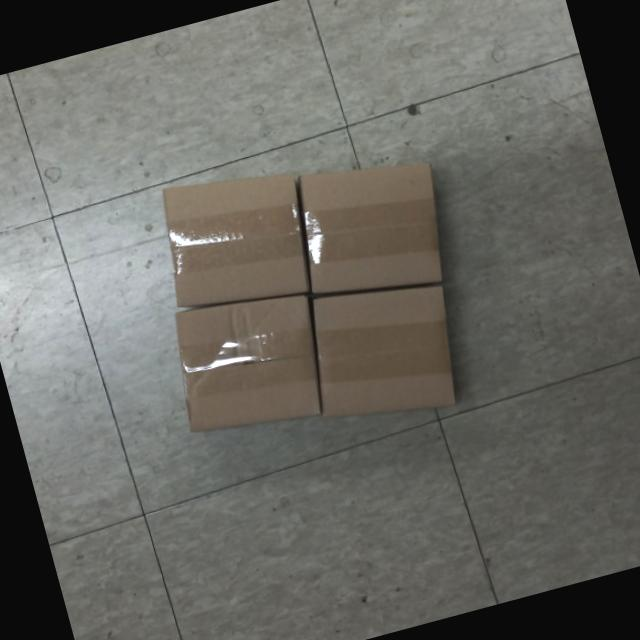box: (282, 247, 486, 448), (270, 132, 470, 326), (139, 142, 336, 338), (150, 271, 349, 462)
